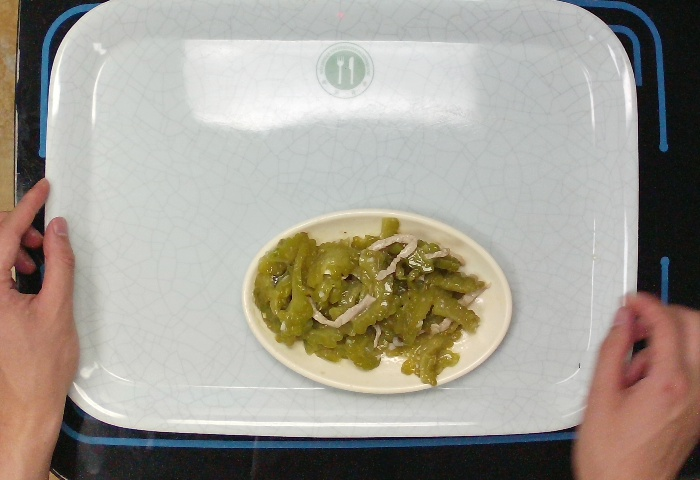JYsf-Tuo_Yuan_Wan: (242, 201, 515, 401)
